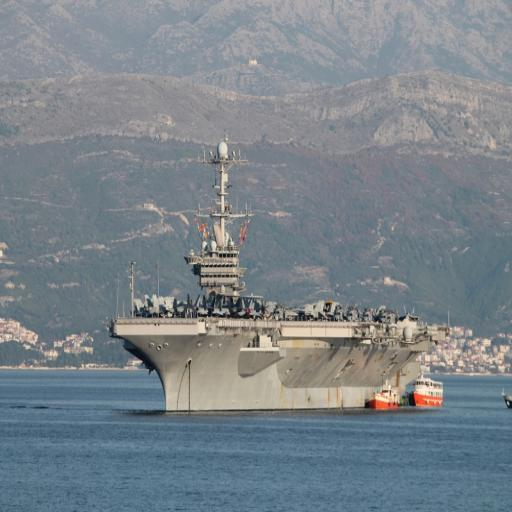Portanaves: (107, 132, 455, 418)
